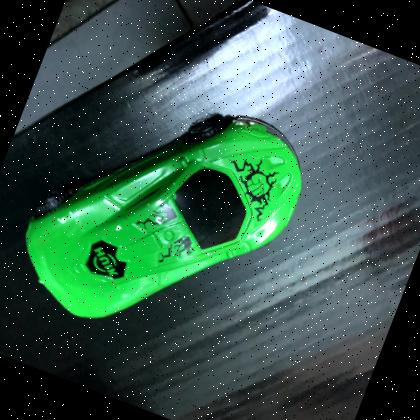Car: (25, 113, 303, 318)
